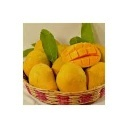mango: (28, 63, 59, 90)
